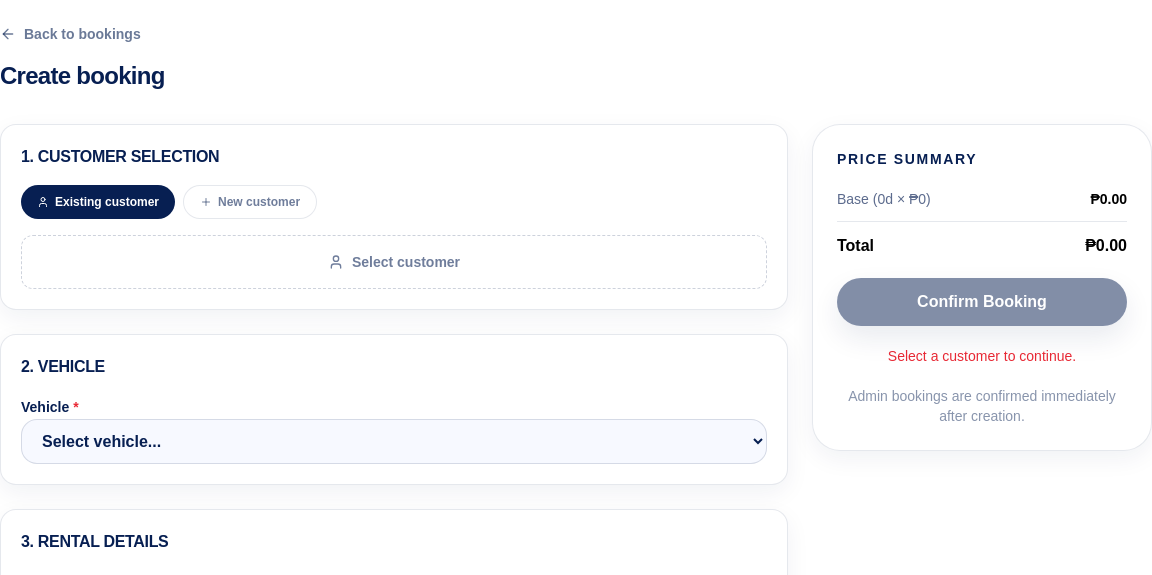
AdminBookingsCreate › shows a non-blocking document note for a selected customer without required documents
This screenshot has width=1152, height=575.
Click the button "Select customer" at coordinates (394, 262), box [21,235,767,289]
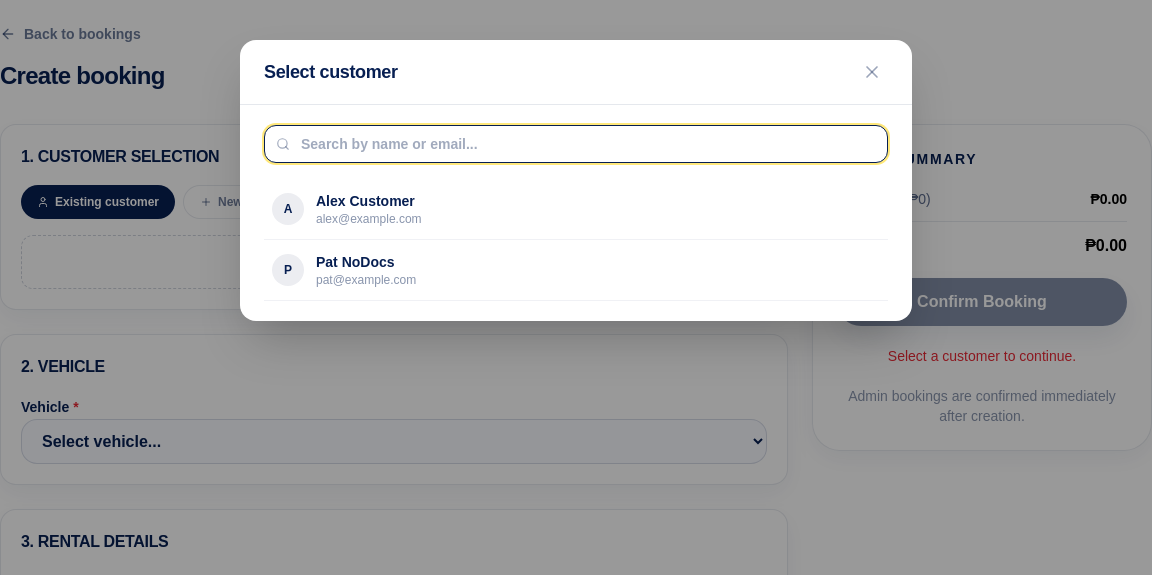
Click the button "P Pat NoDocs pat@example.com" at coordinates (288, 270), box [264,240,888,301]
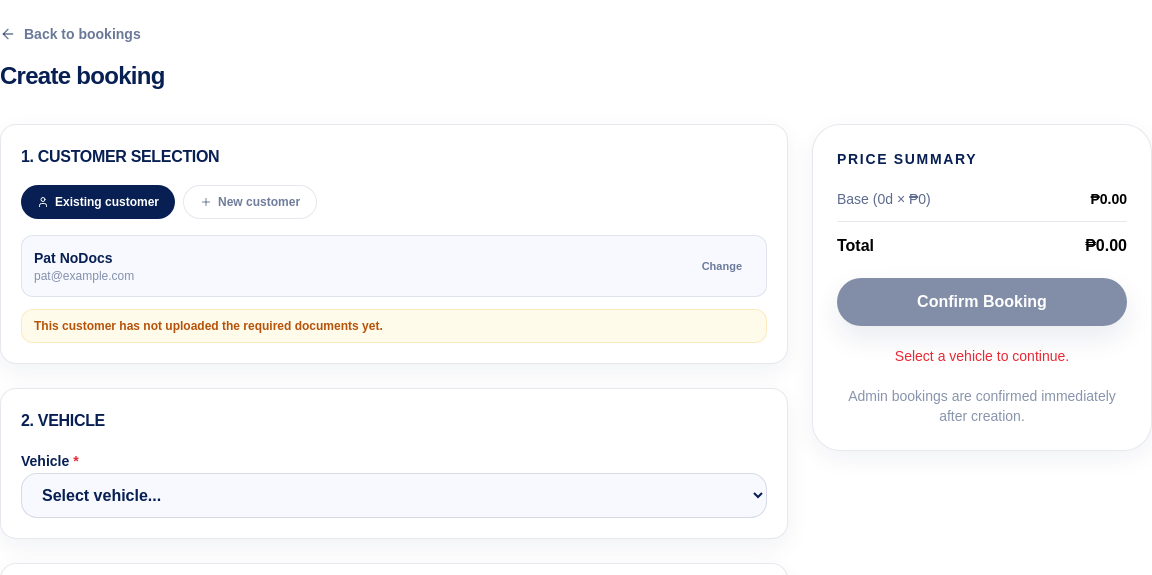
Check: the text "This customer has not uploaded the required documents yet." is shown, box [21,309,767,343]
